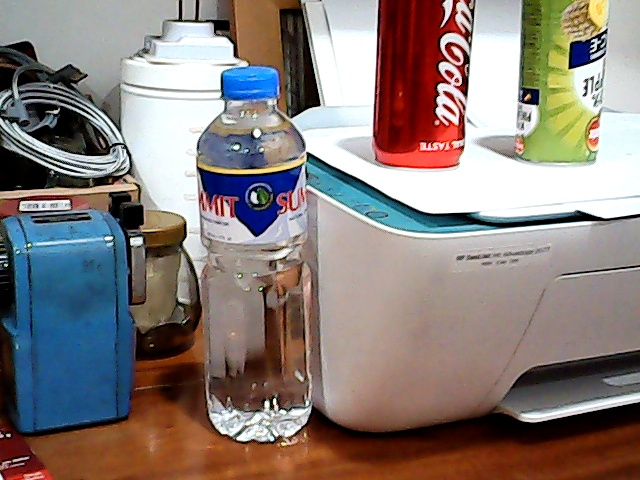Cola: (369, 1, 466, 168)
Pine Juice: (511, 1, 616, 178)
Summit Water: (188, 64, 321, 440)
